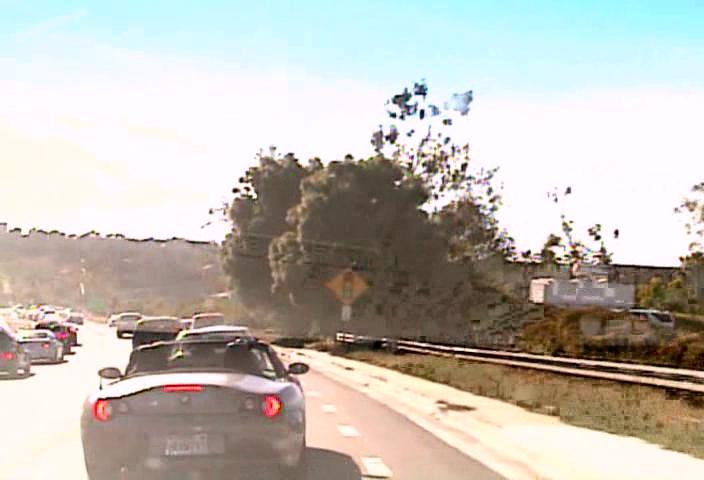signalAhead: (324, 265, 368, 305)
